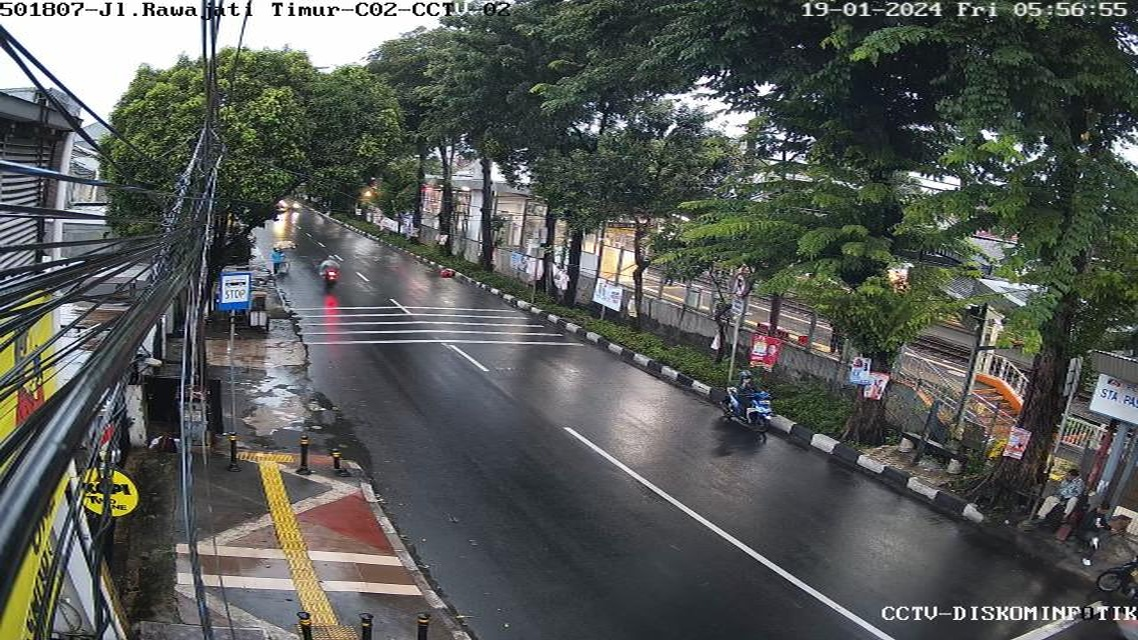Gerobak: (251, 285, 272, 334)
